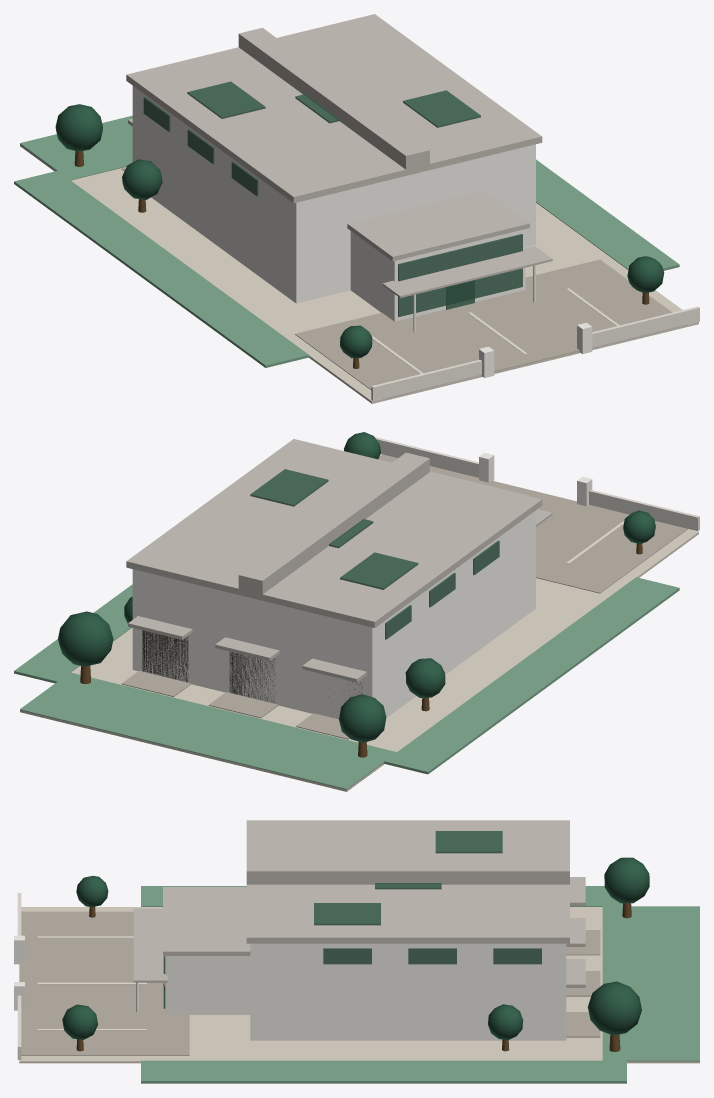
The model's file is apodaca-aeropuerto.glb.
3 views of the same model, one above another, from view 1: azimuth 30°, elevation 25°; view 2: azimuth 150°, elevation 25°; view 3: azimuth 270°, elevation 25° (orthographic). The views are drawn at different scales.
Bounding box in the file's own units: 0.38 × 0.1103 × 0.5645.
